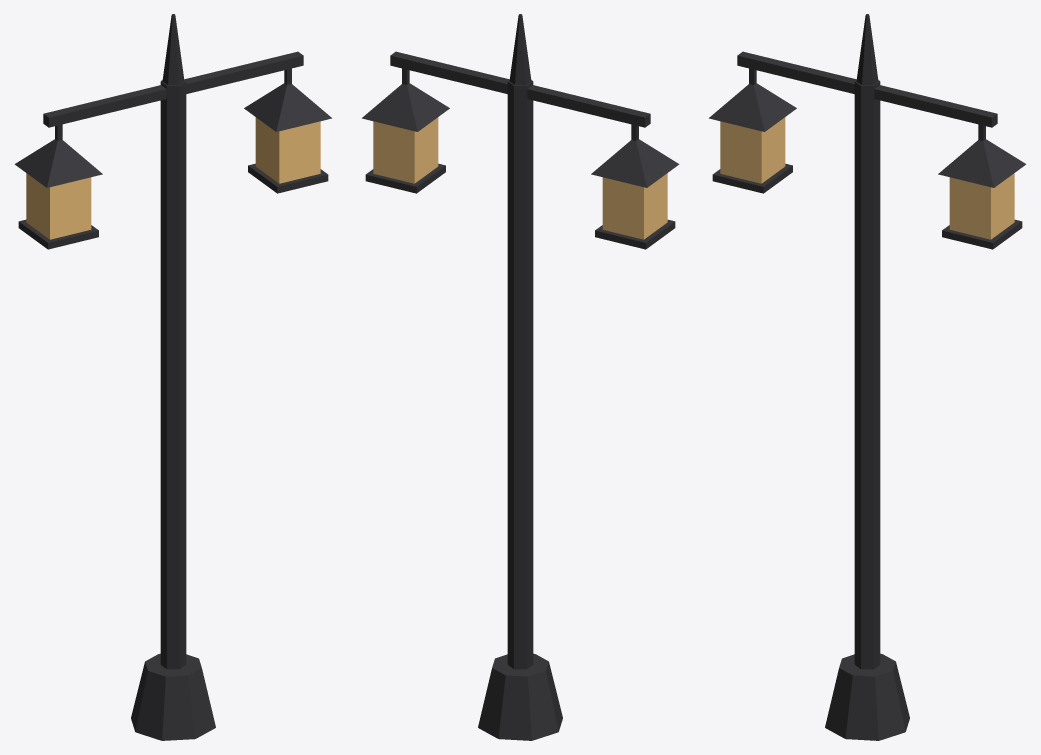
The model's file is lamp_double.glb.
The picture shows the model from 3 angles, left to right: view 1: azimuth 30°, elevation 25°; view 2: azimuth 150°, elevation 25°; view 3: azimuth 330°, elevation 25°; orthographic projection.
Parts seen in each view (by area): view 1: lamp_double; view 2: lamp_double; view 3: lamp_double.
Part boxes in pixels (bbox=[...]): lamp_double: bbox=[14, 14, 331, 740]; lamp_double: bbox=[362, 14, 679, 740]; lamp_double: bbox=[709, 14, 1026, 740].
Size of the model in its own units: 1.79 by 4.25 by 0.48.
